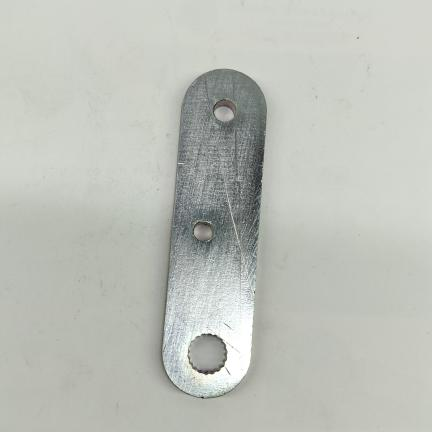line defect: (204, 77, 261, 299)
